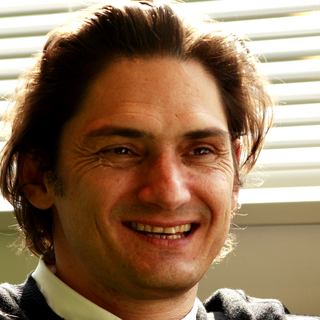eye: (93, 138, 143, 163), (177, 140, 221, 163)
